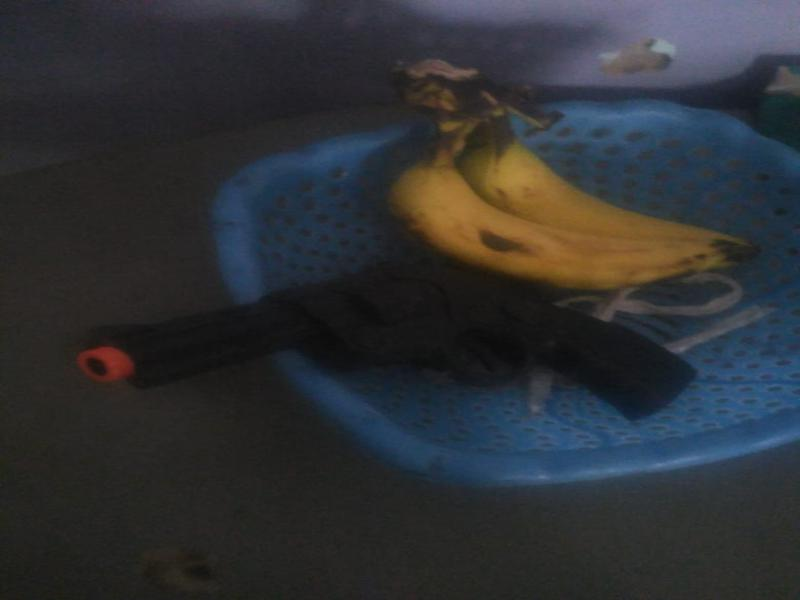gun: (34, 248, 701, 442)
